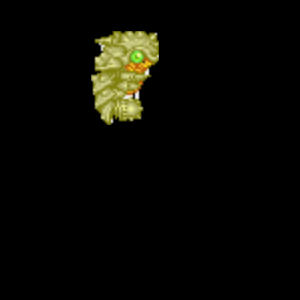Enemy: (91, 31, 159, 125)
